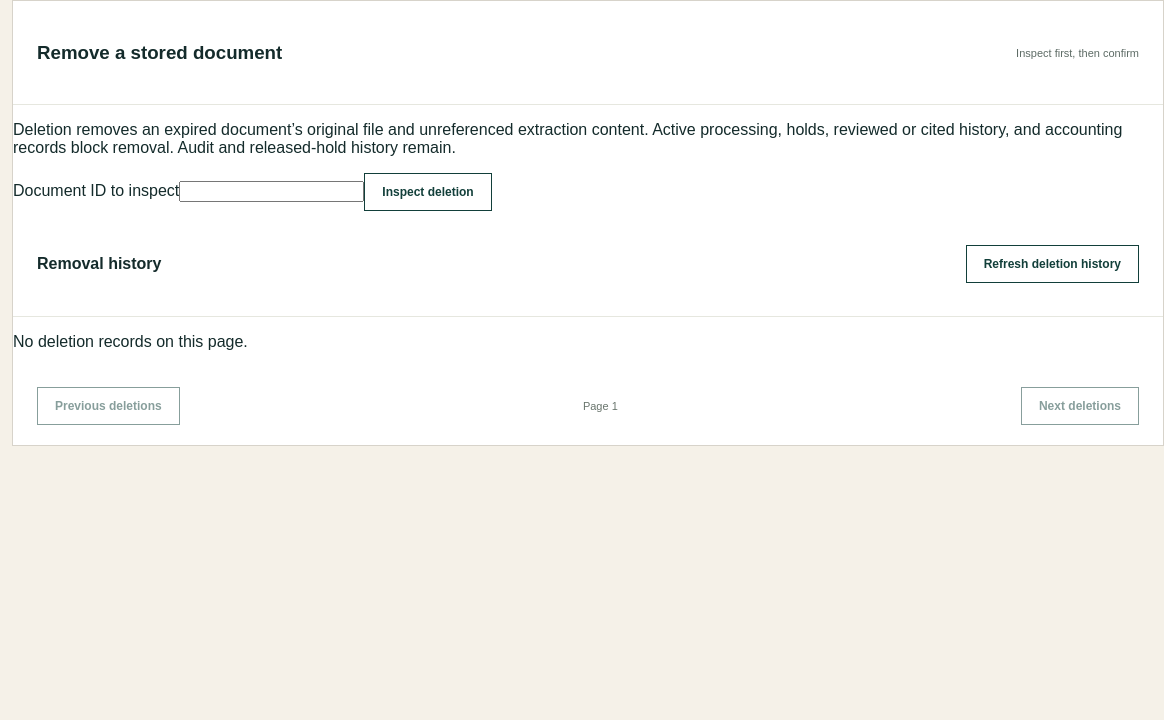
Test case: clears approval and hides private transport details after a failed purge
expect the text "No deletion records on this page." is shown: met, box [13, 333, 248, 350]
Type "33333333-3333-3333-3333-333333333333" into the field labelled "Document ID to inspect".
click(272, 192); type("33333333-3333-3333-3333-333333333333")  # box [179, 181, 364, 202]
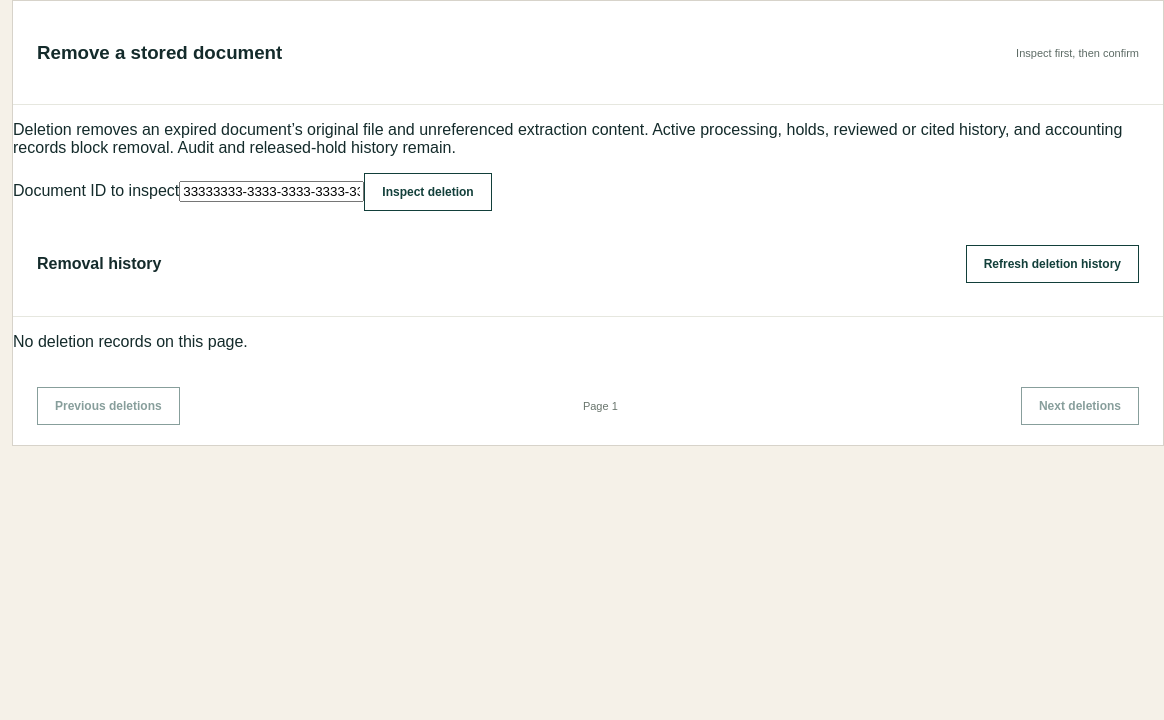
Click the button "Inspect deletion".
click(428, 192)  # box [364, 173, 492, 211]
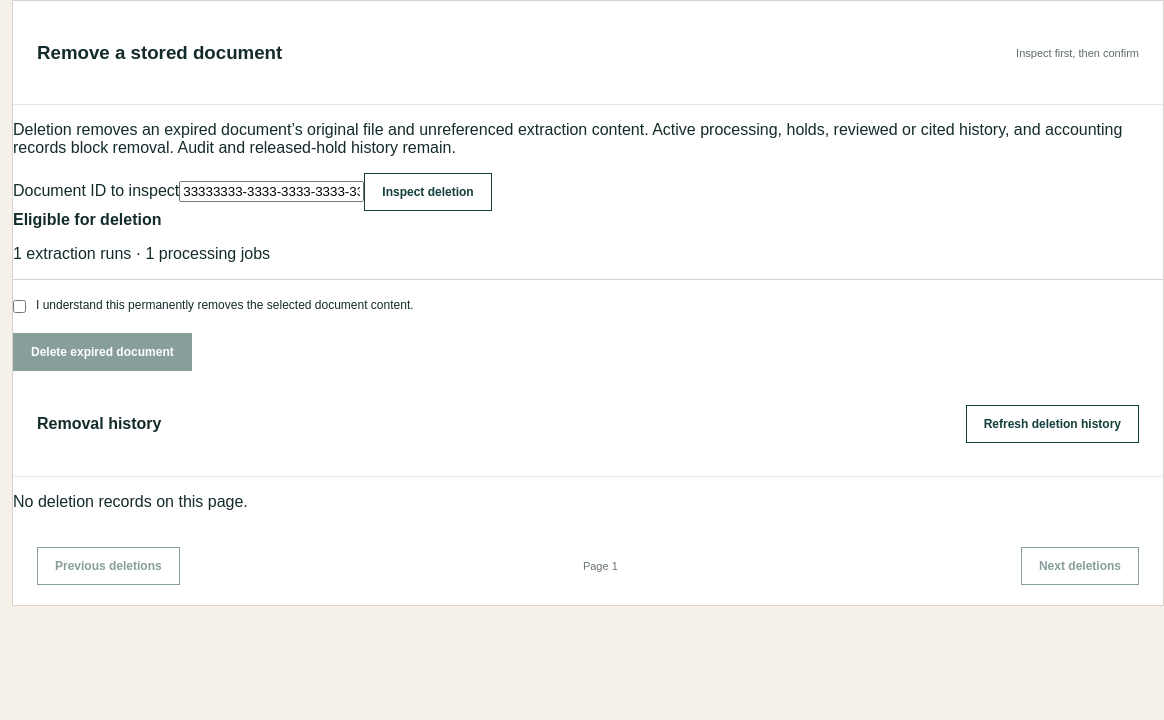
Click the checkbox.
click(20, 307)  # box [13, 300, 26, 313]
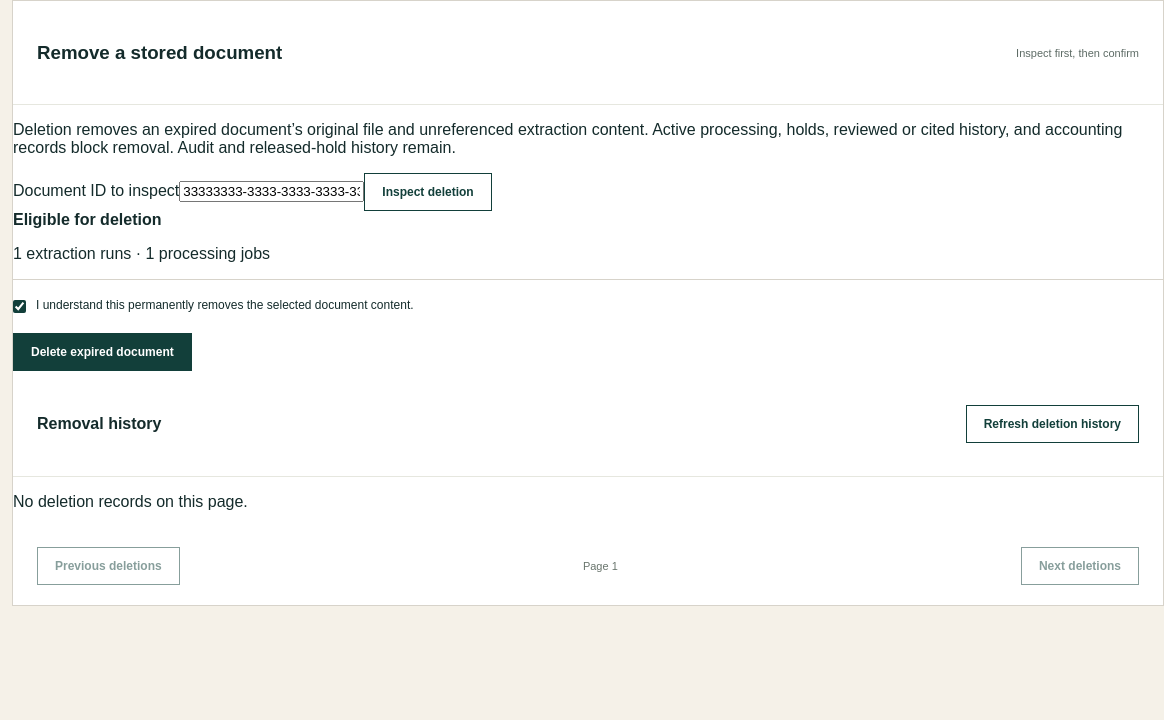
Click the button "Delete expired document".
click(102, 352)  # box [13, 333, 192, 371]
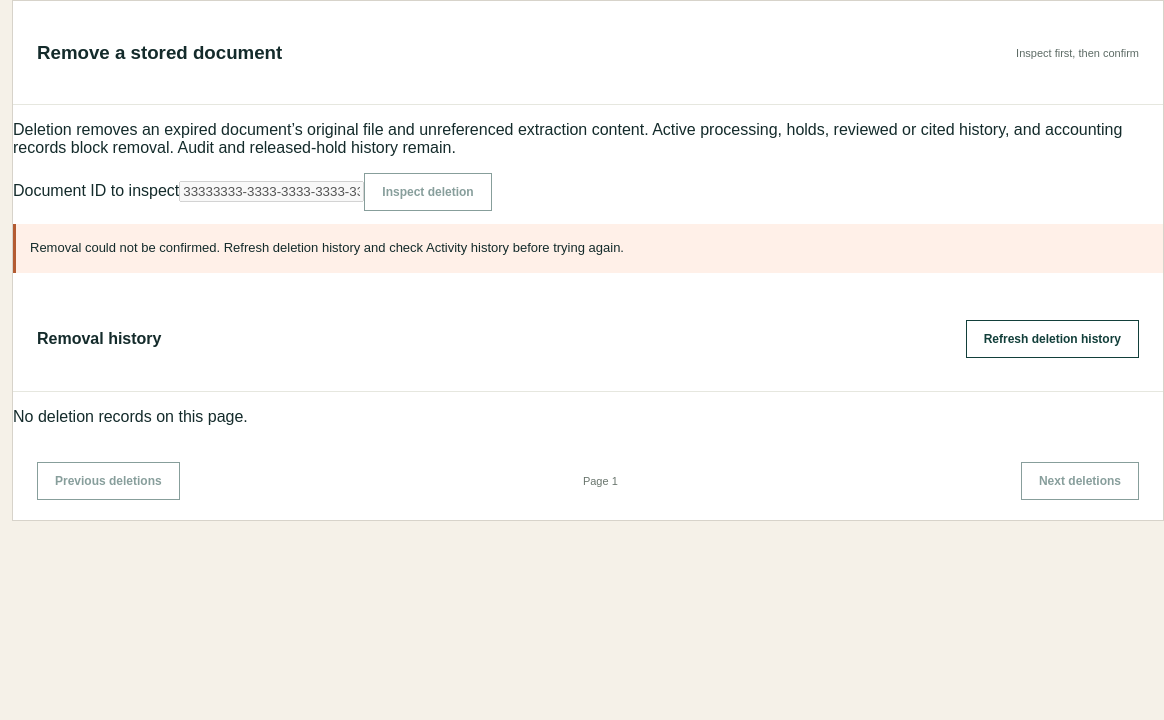
expect the checkbox is gone: met
